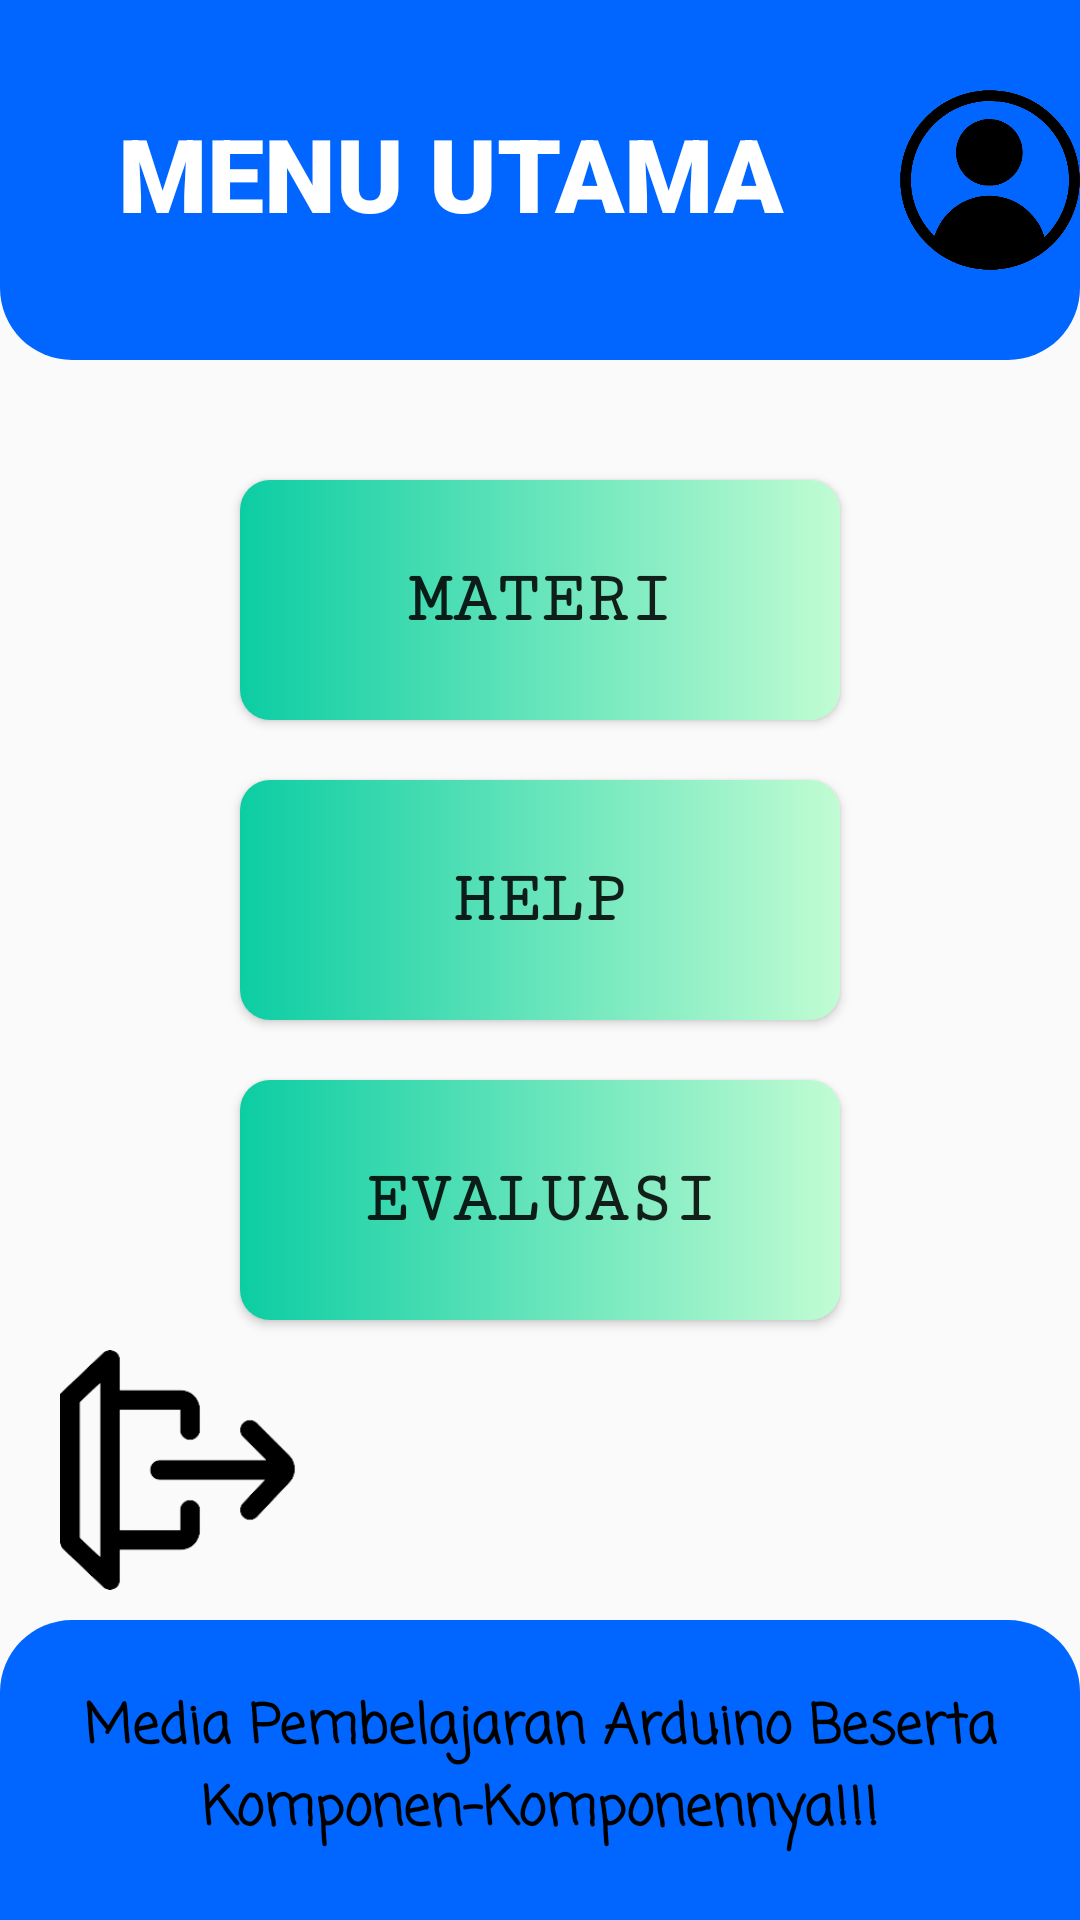

Named icons in this screenshot (1080 x 1920) and their bounding boxes, (x1, y1, x2, y2):
keluar: (60, 1350, 295, 1590)
profil: (900, 90, 1080, 270)
